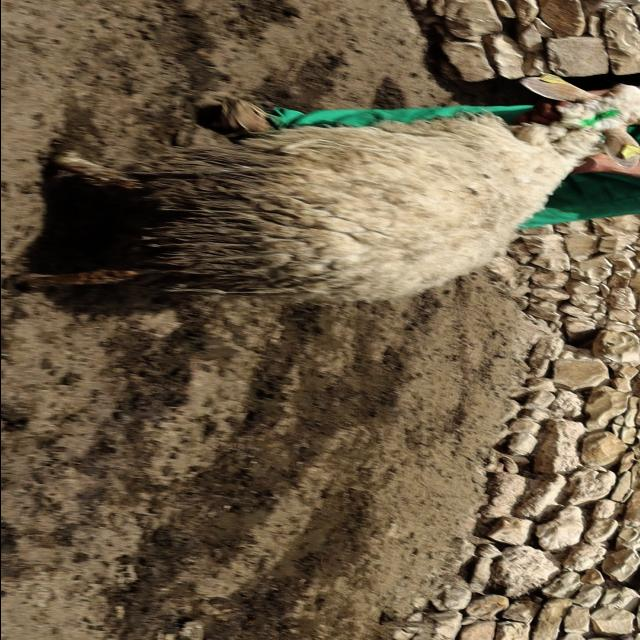Score_3: (17, 73, 640, 302)
